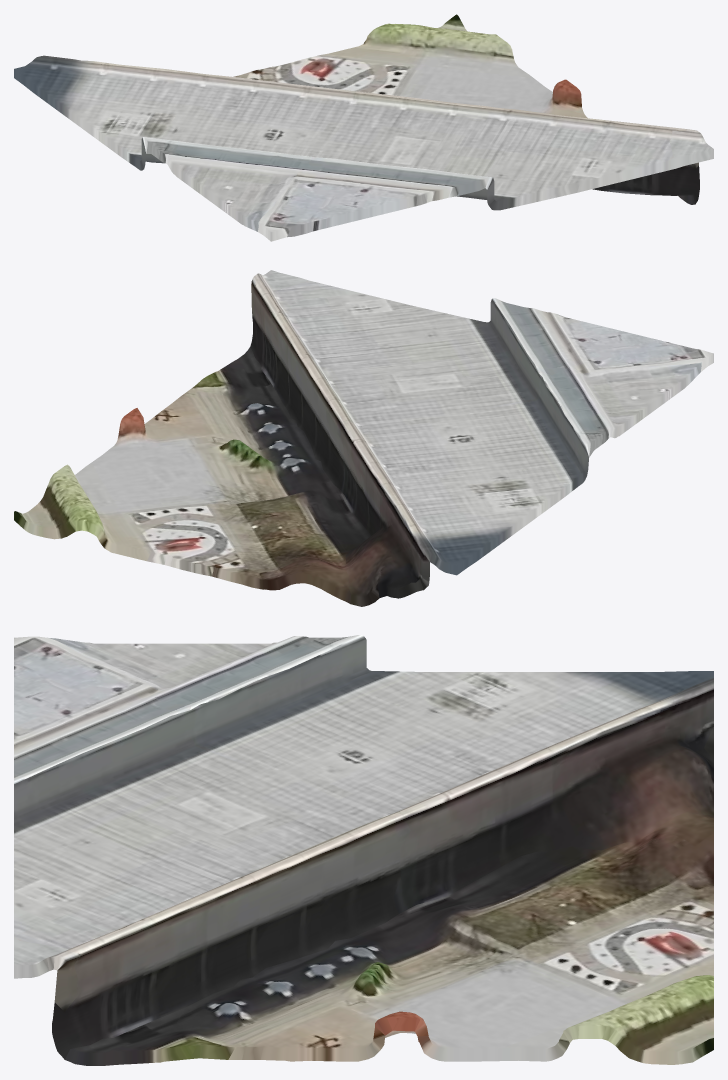
File: z20-167785-405230-h0-yup-uvflip-v3-world.glb
The picture shows the model from 3 angles, top to bottom: view 1: azimuth 30°, elevation 25°; view 2: azimuth 150°, elevation 25°; view 3: azimuth 270°, elevation 25°; orthographic projection. The views are drawn at different scales.
Size of the model in its own units: 30.16 by 6.52 by 30.32.
Materials: 1 (1 with a texture image).
